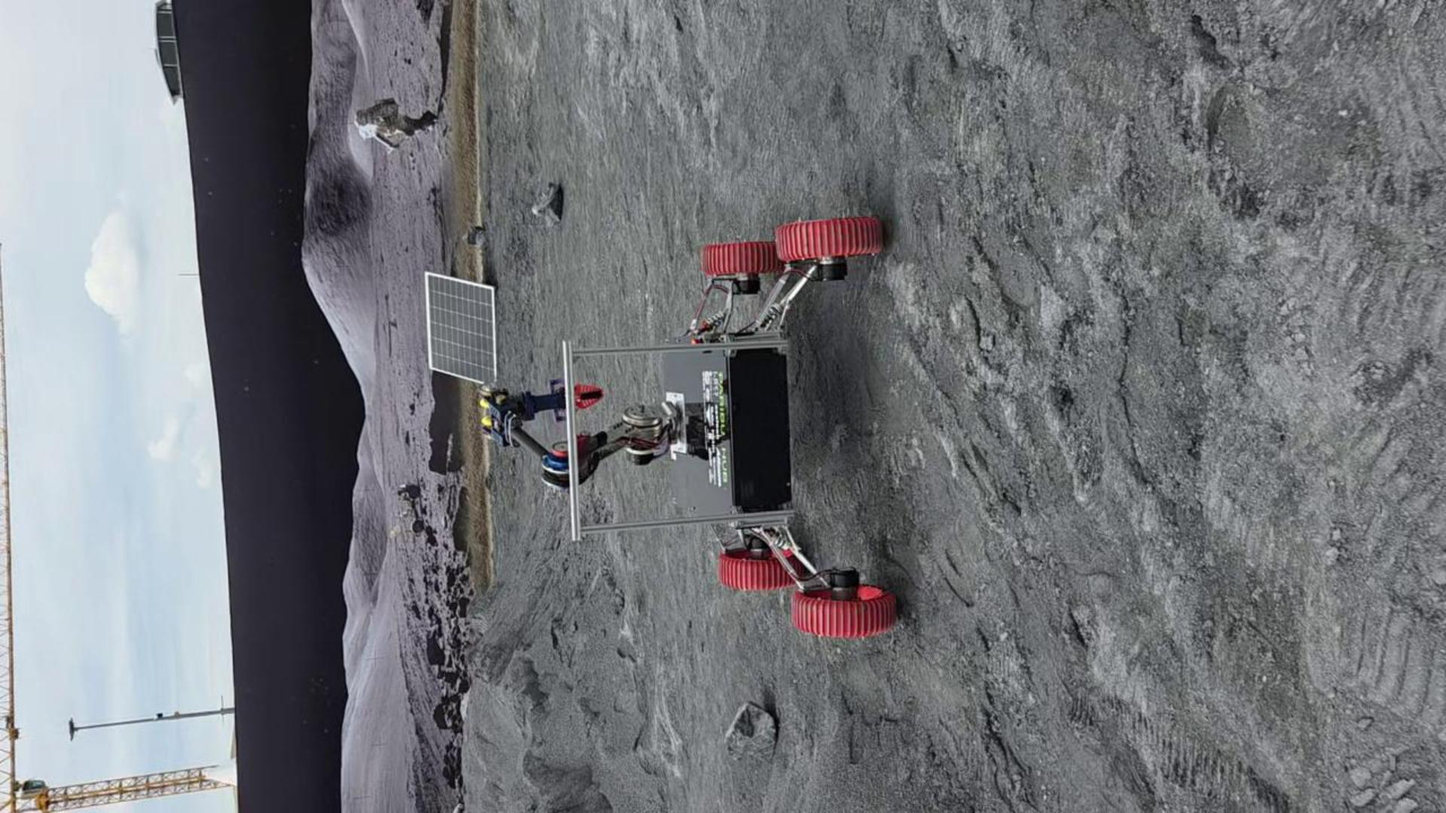rock: (724, 701, 776, 759), (530, 182, 564, 222)
